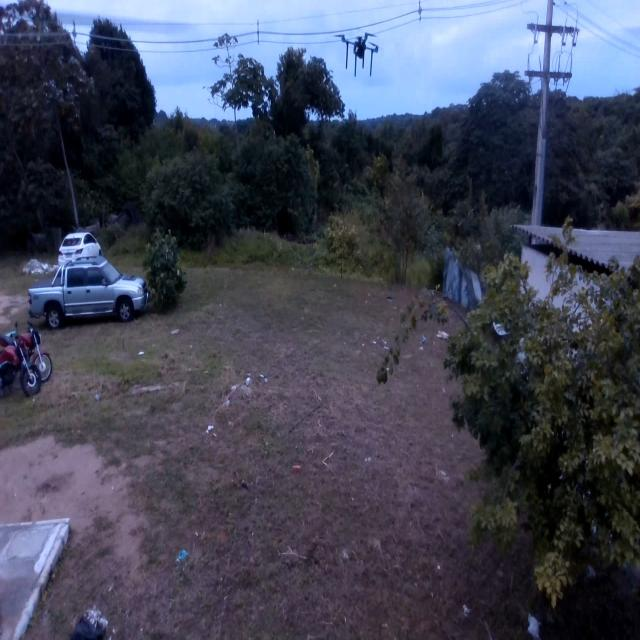-uav-: (327, 13, 388, 101)
